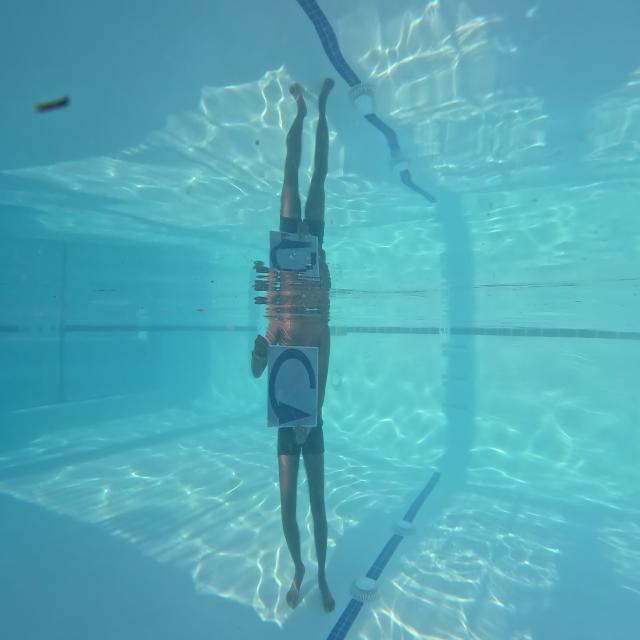blue_side: (255, 331, 327, 441)
